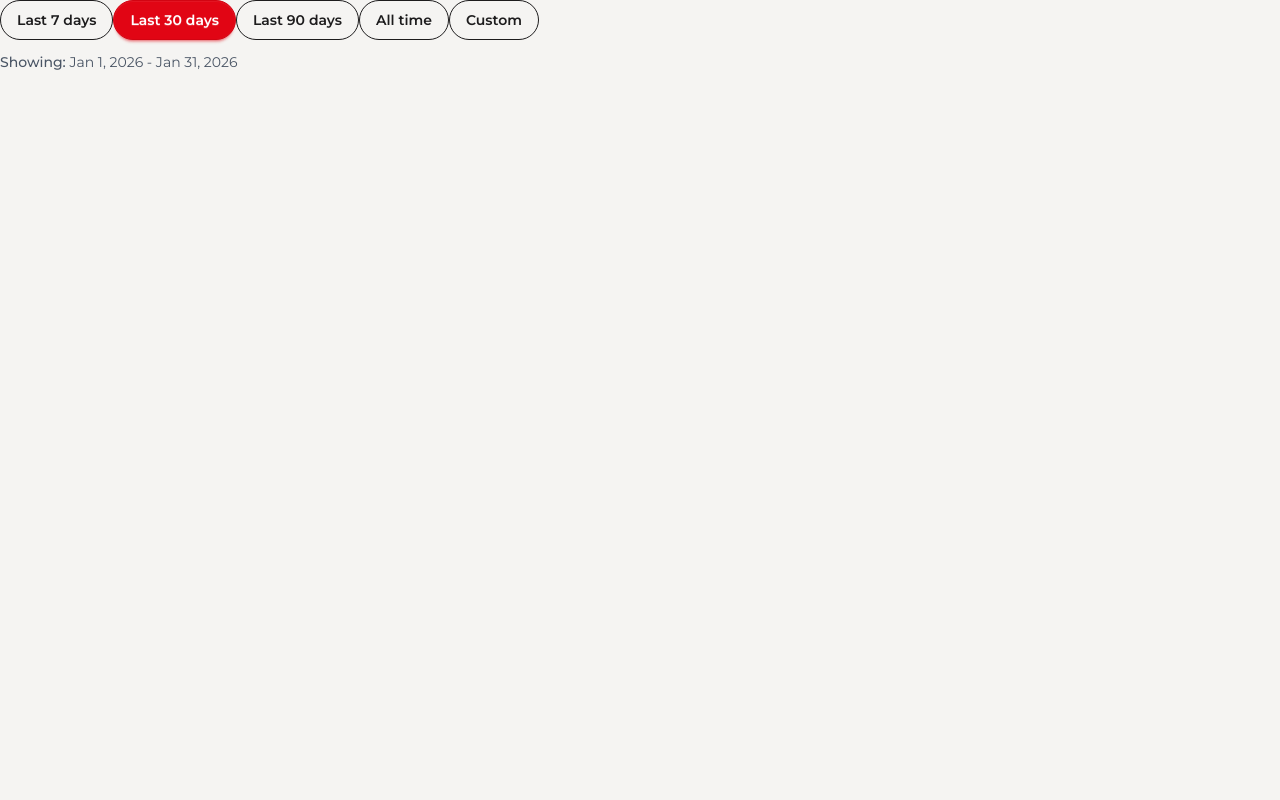
Scenario: DateRangeFilter › should open custom date modal when Custom button is clicked
Click the button "Custom" at (494, 20), box [449, 0, 539, 40]
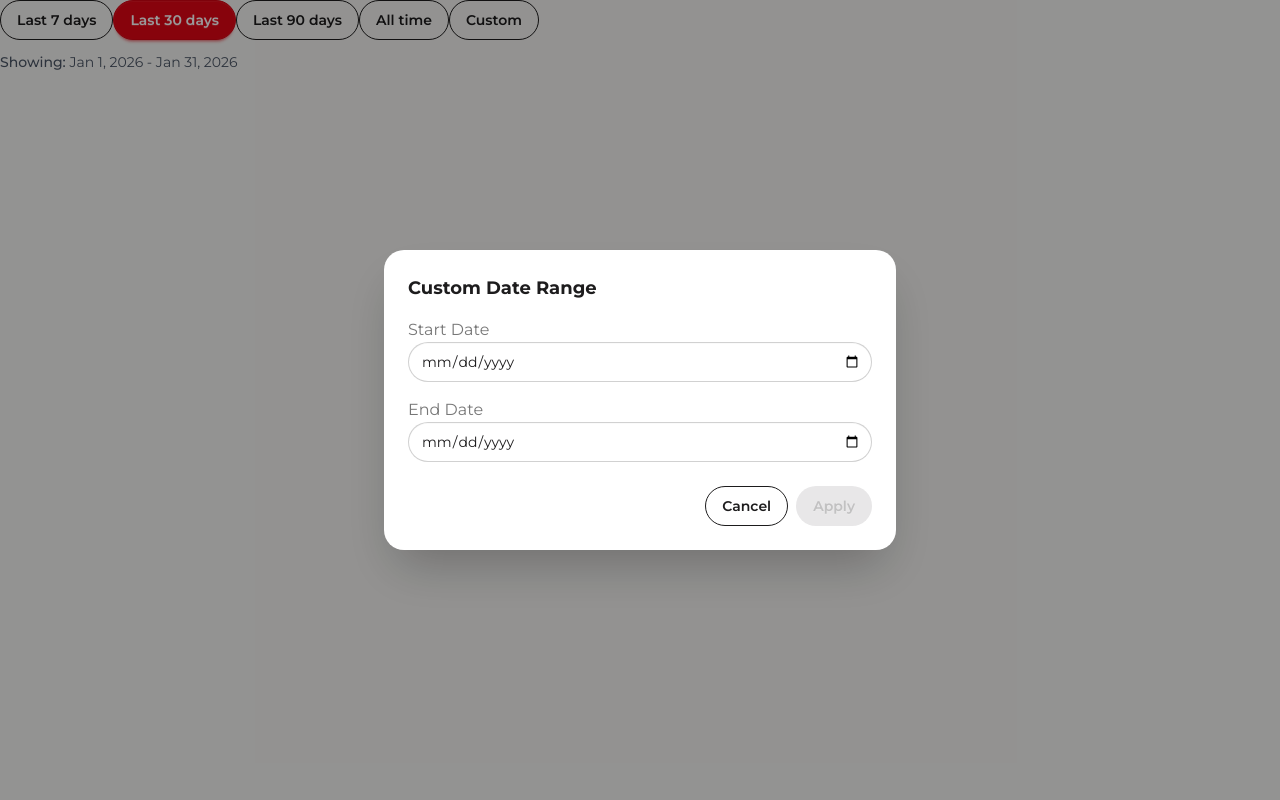
Expected: the dialog is shown, [384, 250, 896, 550]
Expected: the heading "Custom Date Range" is shown, [408, 277, 597, 299]
